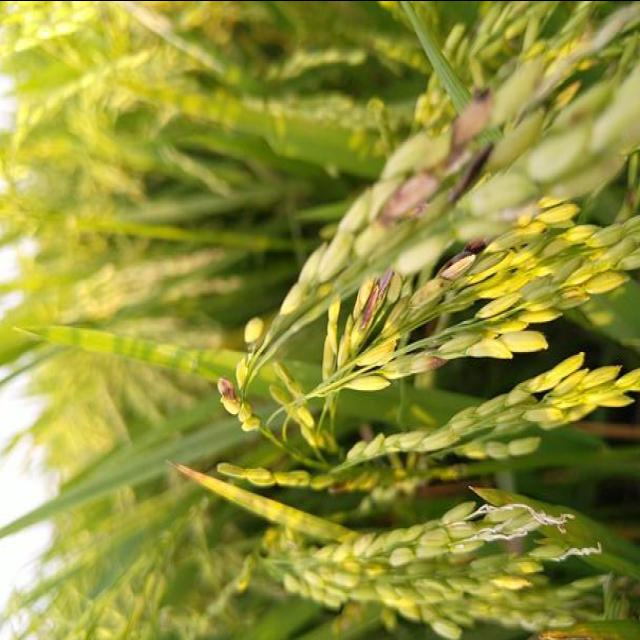Leaf Streak: (173, 465, 352, 540), (543, 622, 640, 640)
Panicle Blight: (373, 89, 508, 227), (354, 269, 393, 330), (440, 237, 493, 279), (218, 375, 244, 417), (400, 354, 445, 376), (310, 479, 365, 492)
